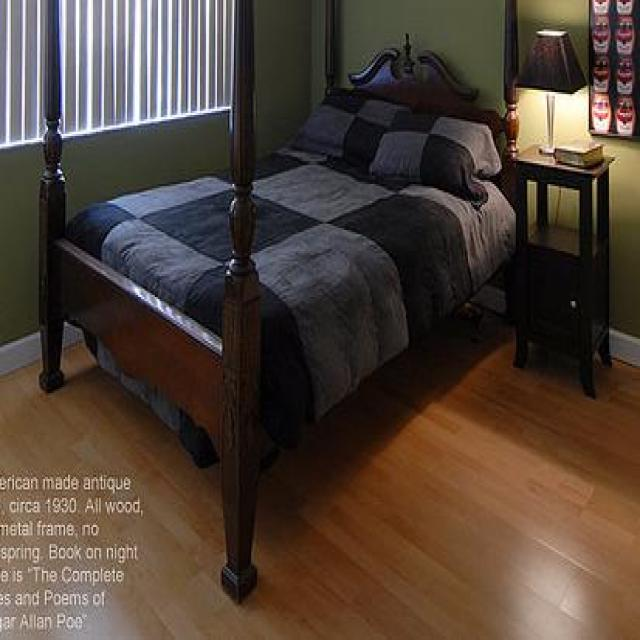bed: (35, 0, 520, 602)
